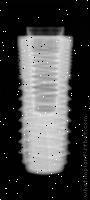Euroteknika: (17, 27, 74, 177)
